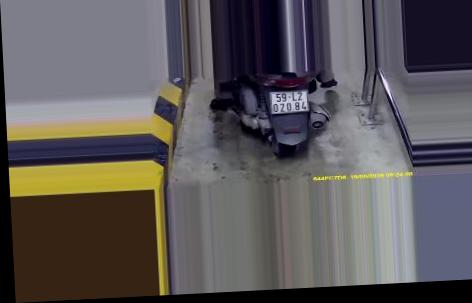License_Plate: (264, 85, 313, 115)
